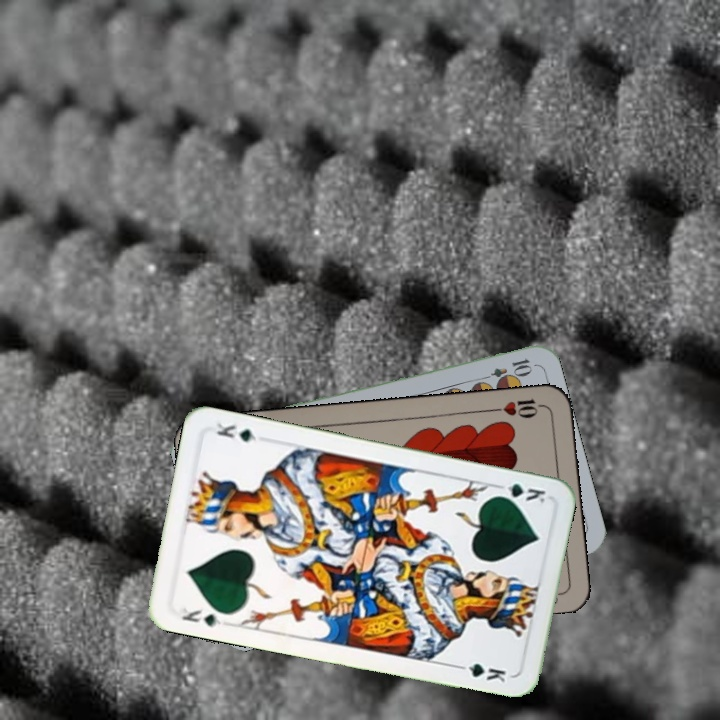E10: (476, 354, 535, 385)
GK: (490, 479, 548, 507), (174, 603, 229, 629)
H10: (488, 395, 547, 421)
